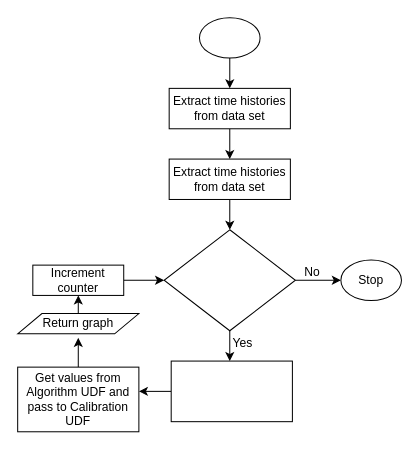
Image size: 419x449. Some labels were removed from this diagram. Here are the shapes that lost their labels. From the top down, the centre of each, then its label:
At point (229, 37): "Start".
At point (229, 280): "Is counter less than or equal to size of the data?".
At point (231, 391): "Pass data and counter to Algorithm UDF".
